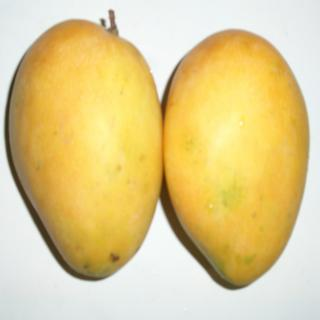Mango: (7, 21, 164, 276), (165, 30, 309, 289)
